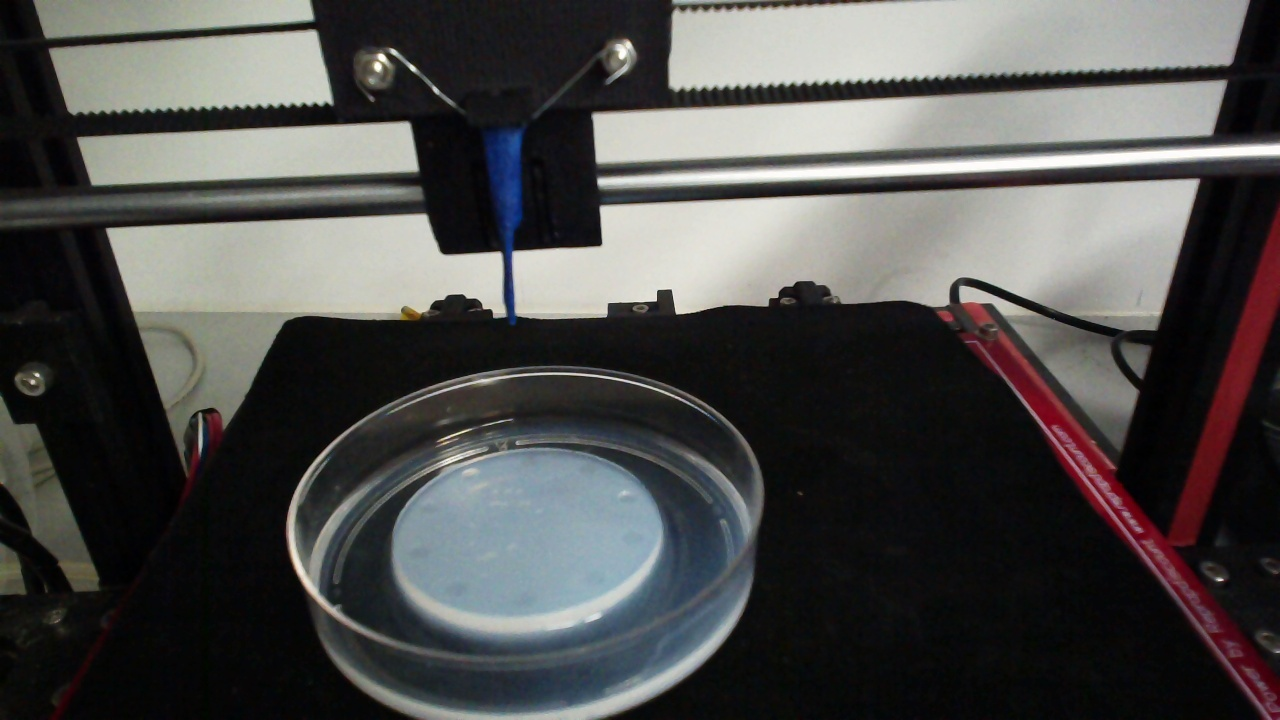groove: (620, 528, 645, 548), (581, 569, 608, 587), (510, 588, 536, 605), (444, 581, 468, 599), (406, 542, 430, 559), (614, 489, 638, 506), (417, 496, 438, 515), (517, 453, 539, 469), (459, 466, 481, 481), (575, 463, 598, 477)
needle: (488, 130, 521, 324)
